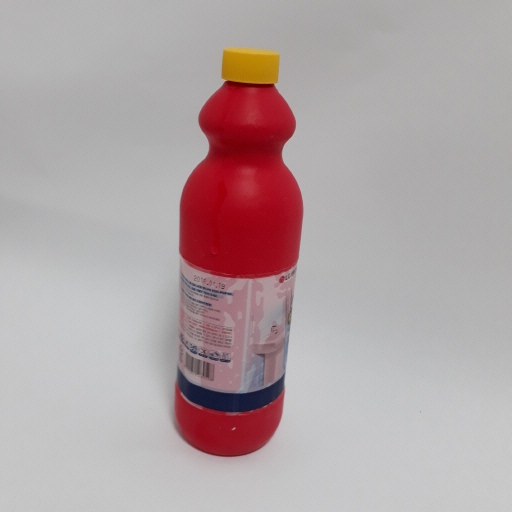Plastic_0: (170, 42, 305, 457)
